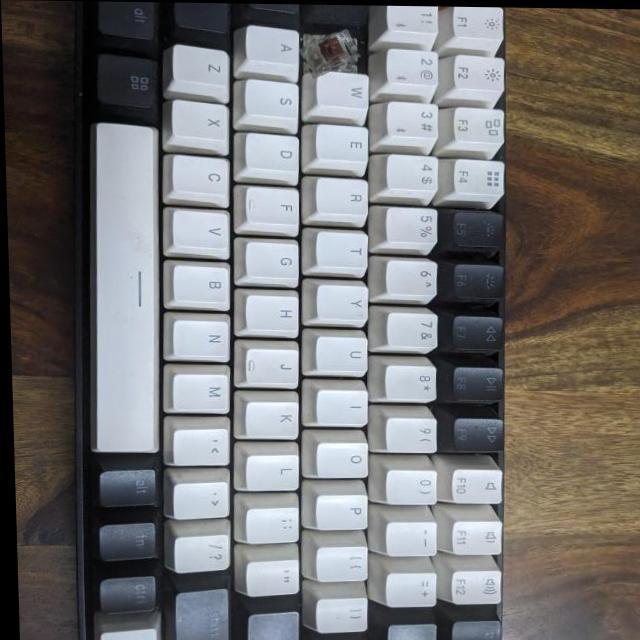key-switch: (300, 29, 360, 73)
